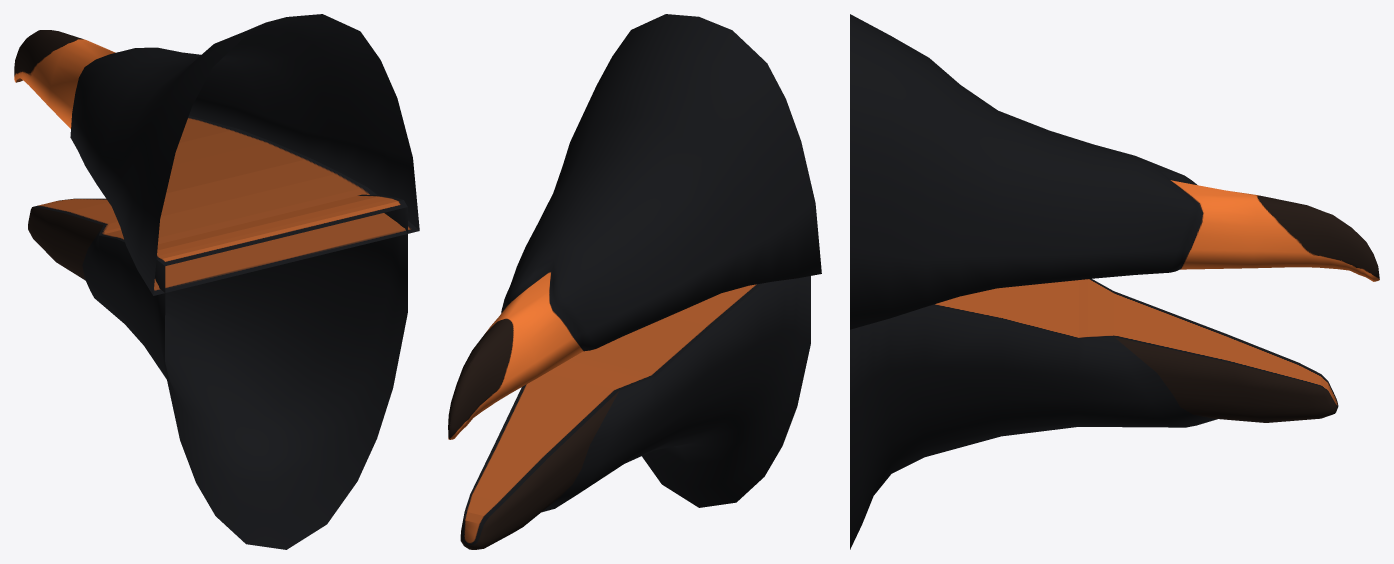
Rendered from Beak00.fbx.
The picture shows the model from 3 angles, left to right: view 1: azimuth 30°, elevation 25°; view 2: azimuth 150°, elevation 25°; view 3: azimuth 270°, elevation 25°; orthographic projection. The views are drawn at different scales.
Parts seen in each view (by area): view 1: beak; view 2: beak; view 3: beak.
Part boxes in pixels (x1=…): beak: x1=14, y1=14, x2=419, y2=549; beak: x1=448, y1=14, x2=821, y2=549; beak: x1=850, y1=14, x2=1379, y2=549.
Size of the model in its own units: 0.0231 by 0.0441 by 0.0407.
